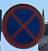No Parking: (3, 5, 46, 50)
